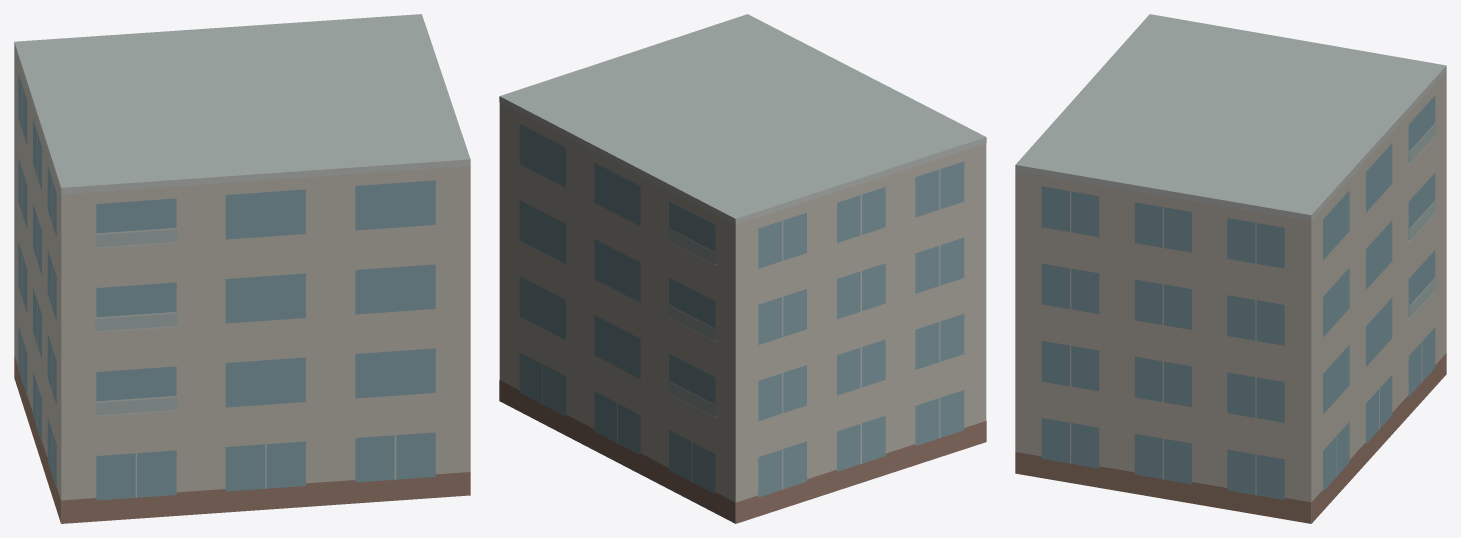
Rendered from survey-upis-32869334.glb.
3 views of the same model, side by side, from view 1: azimuth 30°, elevation 25°; view 2: azimuth 150°, elevation 25°; view 3: azimuth 270°, elevation 25° (orthographic). The views are drawn at different scales.
Visible parts, largest first — view 1: survey-upis-32869334.tmp; view 2: survey-upis-32869334.tmp; view 3: survey-upis-32869334.tmp.
Boxes of the visible parts, left/top/right/bottom form: survey-upis-32869334.tmp: left=14, top=14, right=470, bottom=523; survey-upis-32869334.tmp: left=499, top=14, right=986, bottom=523; survey-upis-32869334.tmp: left=1015, top=14, right=1446, bottom=523.
Size of the model in its own units: 17.34 by 12.4 by 15.71.
